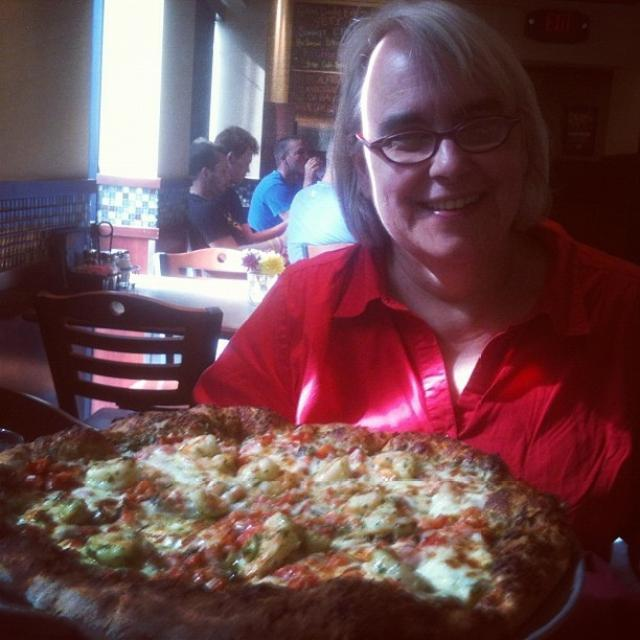person: (191, 0, 638, 584), (187, 137, 288, 260), (215, 126, 289, 243), (247, 137, 324, 231), (285, 165, 356, 264)
